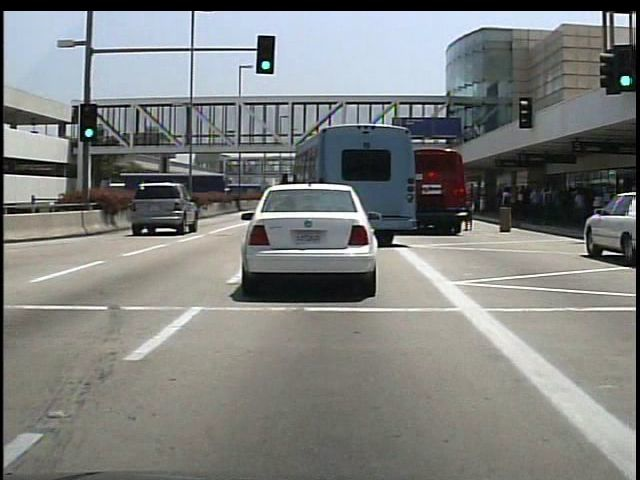person: (466, 185, 479, 235)
